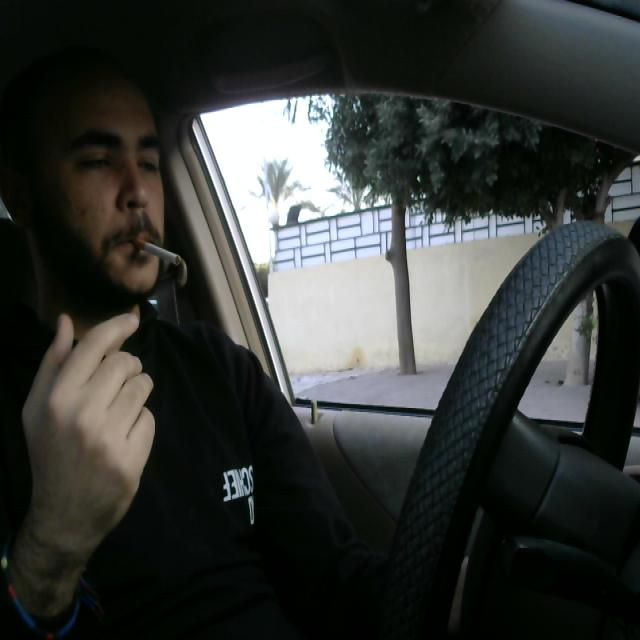smoking: (134, 225, 189, 286)
